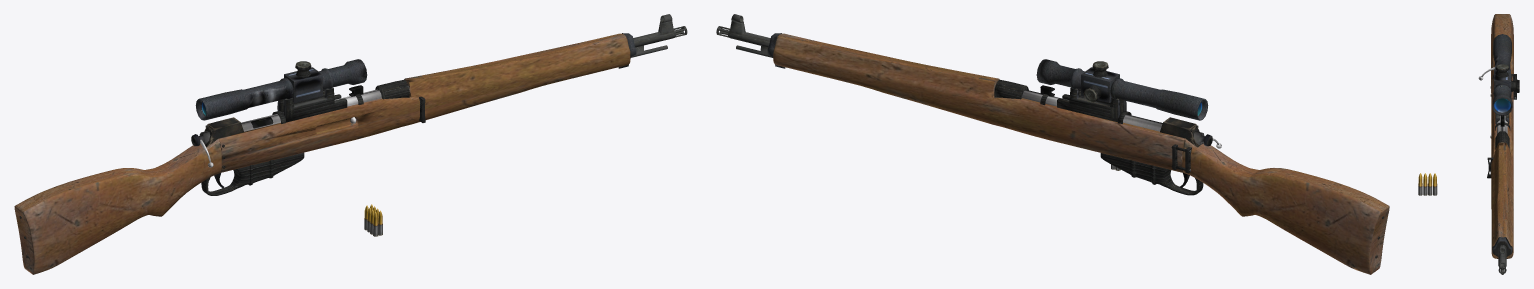
Rendered from World_war_II_Sniper_gun_3d_models.obj.
3 views of the same model, side by side, from view 1: azimuth 30°, elevation 25°; view 2: azimuth 150°, elevation 25°; view 3: azimuth 270°, elevation 25° (orthographic). The views are drawn at different scales.
Visible parts, largest first — view 1: World_war_2_sniper_gun_3dislands.blogspot.com; view 2: World_war_2_sniper_gun_3dislands.blogspot.com; view 3: World_war_2_sniper_gun_3dislands.blogspot.com, Bullet13, Bullet12, Bullet15, Bullet14.
Boxes of the visible parts, x1=… form: World_war_2_sniper_gun_3dislands.blogspot.com: x1=14, y1=14, x2=687, y2=274; World_war_2_sniper_gun_3dislands.blogspot.com: x1=716, y1=14, x2=1389, y2=274; World_war_2_sniper_gun_3dislands.blogspot.com: x1=1478, y1=14, x2=1519, y2=274; Bullet13: x1=1428, y1=175, x2=1432, y2=195; Bullet12: x1=1423, y1=175, x2=1427, y2=195; Bullet15: x1=1418, y1=175, x2=1422, y2=195; Bullet14: x1=1433, y1=175, x2=1437, y2=195.
Size of the model in its own units: 376 by 75.94 by 59.67.
